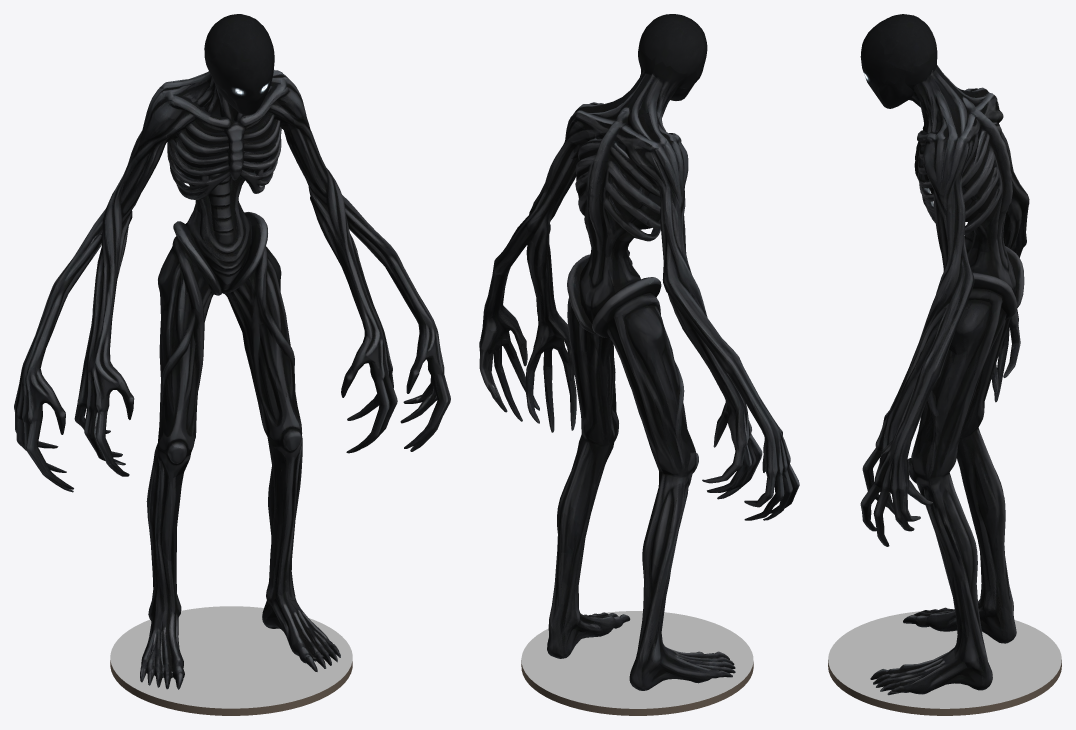
Rendered from skeletal_harvester.glb.
3 views of the same model, side by side, from view 1: azimuth 30°, elevation 25°; view 2: azimuth 150°, elevation 25°; view 3: azimuth 270°, elevation 25° (orthographic). The views are drawn at different scales.
Parts seen in each view (by area): view 1: SkeletalHarvester; view 2: SkeletalHarvester; view 3: SkeletalHarvester.
Part boxes in pixels (left/top/right/bottom): SkeletalHarvester: left=14, top=14, right=450, bottom=715; SkeletalHarvester: left=479, top=14, right=799, bottom=715; SkeletalHarvester: left=828, top=14, right=1061, bottom=715.
Bounding box in the file's own units: 1.62 × 2.77 × 0.9144.
3 materials, 1 textured.
